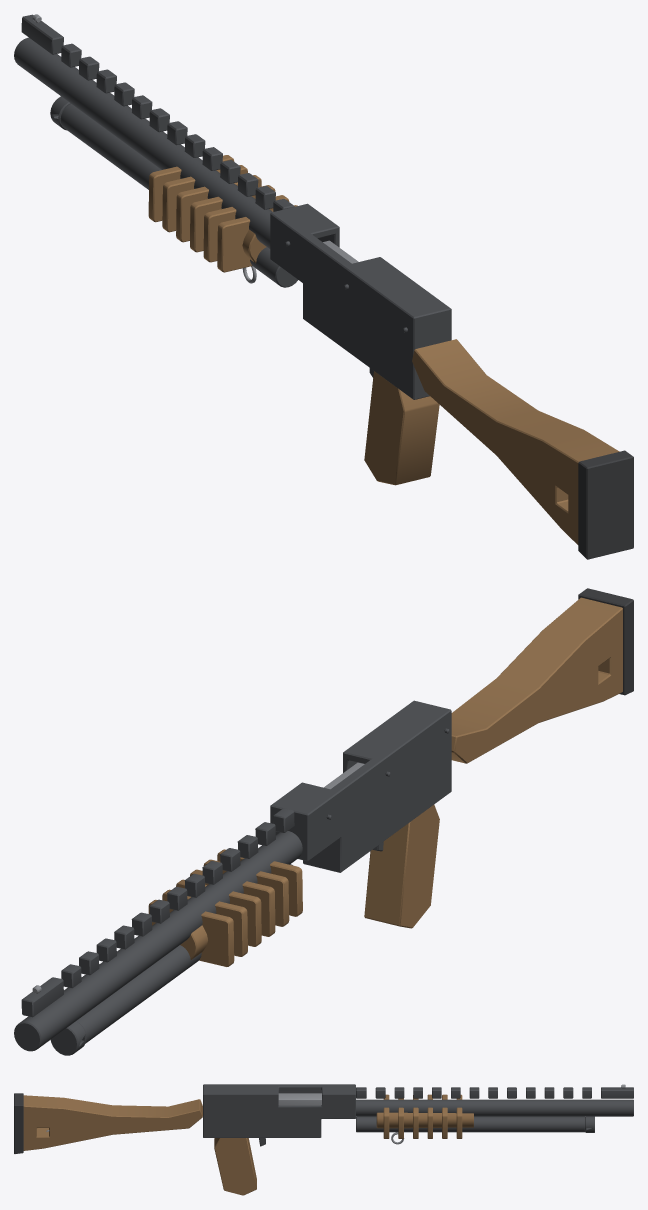
File: W_shotgun_pump.fbx
3 renders of one model, top to bottom at view 1: azimuth 30°, elevation 25°; view 2: azimuth 150°, elevation 25°; view 3: azimuth 270°, elevation 25°, orthographic. The views are drawn at different scales.
Visible parts, largest first — view 1: W_shotgun_pump; view 2: W_shotgun_pump; view 3: W_shotgun_pump.
Boxes of the visible parts, bbox=[...] form: W_shotgun_pump: bbox=[14, 14, 633, 559]; W_shotgun_pump: bbox=[14, 588, 633, 1055]; W_shotgun_pump: bbox=[14, 1084, 633, 1195].
Size of the model in its own units: 0.072 by 0.1686 by 0.892.
